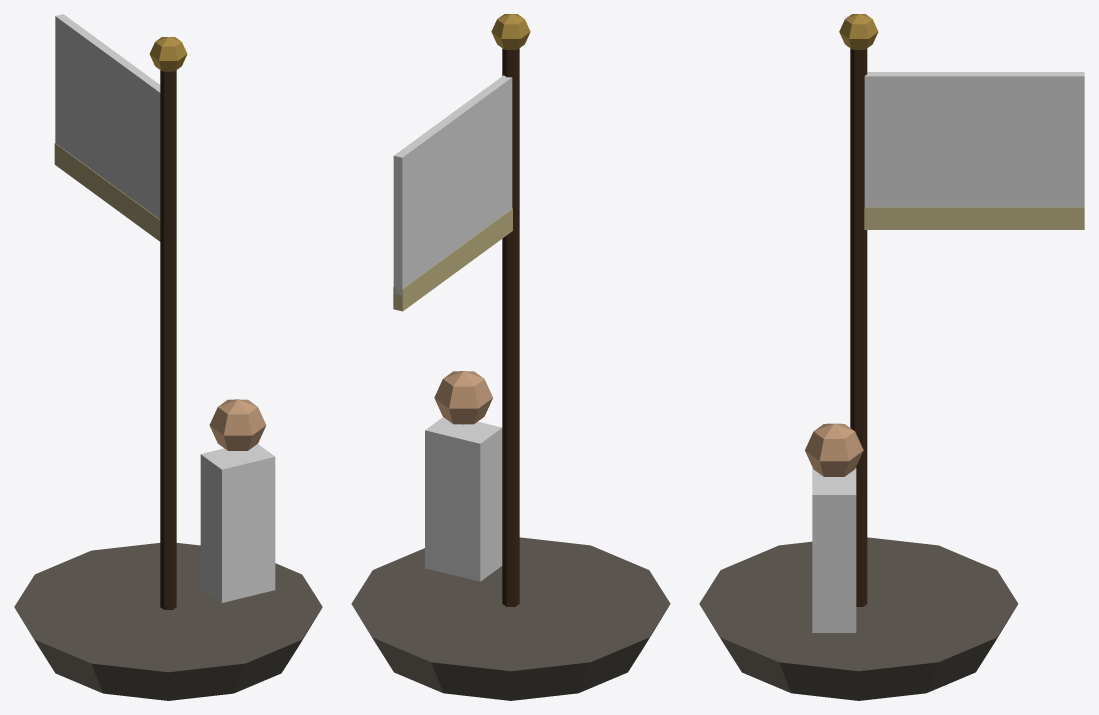
The model's file is army_standard.glb.
3 renders of one model, left to right at view 1: azimuth 30°, elevation 25°; view 2: azimuth 150°, elevation 25°; view 3: azimuth 270°, elevation 25°, orthographic. The views are drawn at different scales.
Parts seen in each view (by area): view 1: army_standard; view 2: army_standard; view 3: army_standard.
Part boxes in pixels (x1,y1,x2,y2): army_standard: [14, 14, 322, 700]; army_standard: [351, 14, 670, 700]; army_standard: [699, 14, 1084, 700].
Size of the model in its own units: 1.3 by 2.83 by 1.57.
